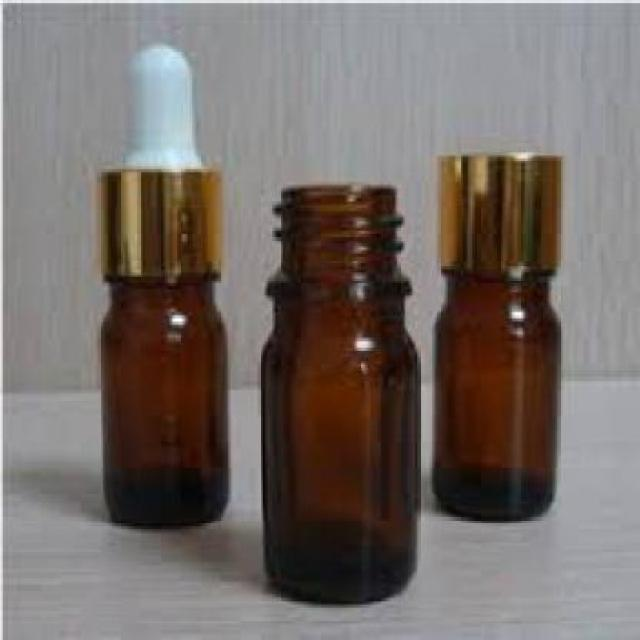kaca: (255, 182, 417, 604), (95, 272, 231, 526), (428, 266, 555, 520)
